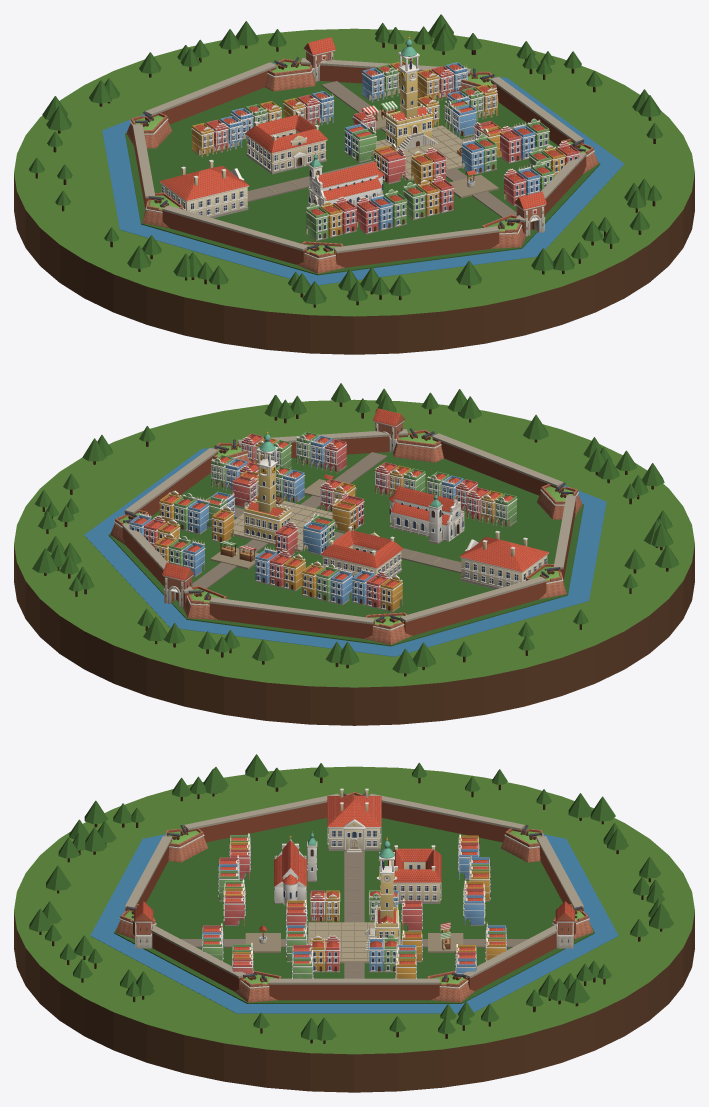
File: zamosc-city.glb
3 views of the same model, one above another, from view 1: azimuth 30°, elevation 25°; view 2: azimuth 150°, elevation 25°; view 3: azimuth 270°, elevation 25° (orthographic).
Parts seen in each view (by area): view 1: ground, fortress-mesh, building-academy-academy, building-palace-palace, building-townhall-townhall, building-collegiate-collegiate, grodzka-mesh, market-mesh, building-fortress-bastion.005, building-fortress-bastion.001, building-fortress-bastion.006, building-fortress-gate.001 (+22 smaller); view 2: ground, fortress-mesh, building-palace-palace, building-collegiate-collegiate, building-academy-academy, building-townhall-townhall, grodzka-mesh, market-mesh, building-fortress-bastion.002, building-fortress-bastion.006, building-fortress-bastion.001, building-fortress-gate (+22 smaller); view 3: ground, fortress-mesh, building-palace-palace, market-mesh, building-academy-academy, grodzka-mesh, building-collegiate-collegiate, building-townhall-townhall, building-fortress-bastion.001, building-fortress-bastion.006, building-fortress-bastion.003, building-fortress-bastion.004 (+7 smaller).
Part boxes in pixels (bbox=[...]): ground: bbox=[14, 14, 694, 354]; fortress-mesh: bbox=[132, 58, 586, 267]; building-academy-academy: bbox=[245, 111, 327, 174]; building-palace-palace: bbox=[159, 160, 249, 218]; building-townhall-townhall: bbox=[384, 35, 438, 151]; building-collegiate-collegiate: bbox=[308, 152, 383, 207]; grodzka-mesh: bbox=[247, 81, 527, 217]; market-mesh: bbox=[352, 109, 498, 198]; building-fortress-bastion.005: bbox=[265, 57, 315, 91]; building-fortress-bastion.001: bbox=[296, 241, 344, 273]; building-fortress-bastion.006: bbox=[126, 111, 171, 148]; building-fortress-gate.001: bbox=[514, 191, 546, 236]; ground: bbox=[14, 383, 694, 725]; fortress-mesh: bbox=[122, 429, 576, 638]; building-palace-palace: bbox=[459, 531, 549, 589]; building-collegiate-collegiate: bbox=[389, 486, 464, 544]; building-academy-academy: bbox=[320, 526, 403, 578]; building-townhall-townhall: bbox=[243, 429, 291, 542]; grodzka-mesh: bbox=[181, 452, 461, 588]; market-mesh: bbox=[210, 479, 356, 569]; building-fortress-bastion.002: bbox=[393, 428, 443, 462]; building-fortress-bastion.006: bbox=[364, 612, 412, 644]; building-fortress-bastion.001: bbox=[536, 482, 582, 519]; building-fortress-gate: bbox=[162, 562, 194, 607]; ground: bbox=[14, 754, 694, 1092]; fortress-mesh: bbox=[125, 793, 583, 1000]; building-palace-palace: bbox=[327, 788, 381, 852]; market-mesh: bbox=[245, 922, 463, 963]; building-academy-academy: bbox=[388, 845, 441, 903]; grodzka-mesh: bbox=[181, 851, 527, 978]; building-collegiate-collegiate: bbox=[274, 831, 317, 906]; building-townhall-townhall: bbox=[364, 836, 399, 950]; building-fortress-bastion.001: bbox=[165, 825, 207, 862]; building-fortress-bastion.006: bbox=[501, 825, 543, 862]; building-fortress-bastion.003: bbox=[234, 970, 281, 1002]; building-fortress-bastion.004: bbox=[427, 970, 474, 1002].
Size of the model in its own units: 25 by 6.8 by 25.
Materials: 2 (1 with a texture image).
